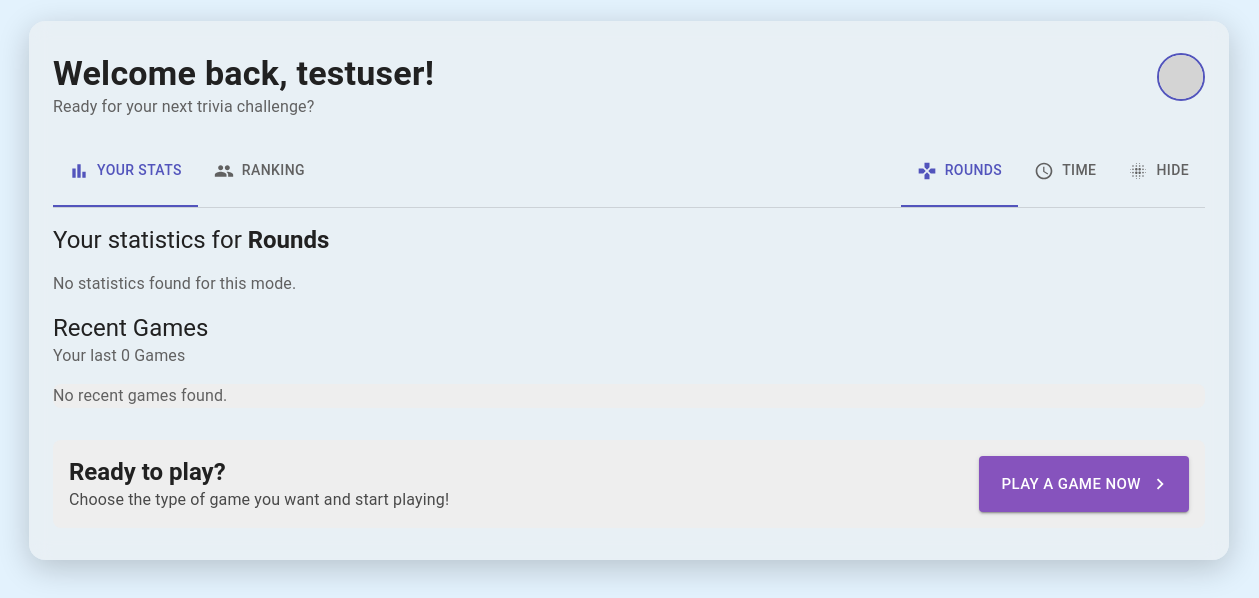
Test: Home component › should render the tabs and allow switching between them
This screenshot has width=1259, height=598.
Expected: the tab "Your Stats" is shown, x1=53 y1=135 x2=198 y2=207
Click the tab with test id "ranking" at (259, 171), box x1=198 y1=135 x2=321 y2=207
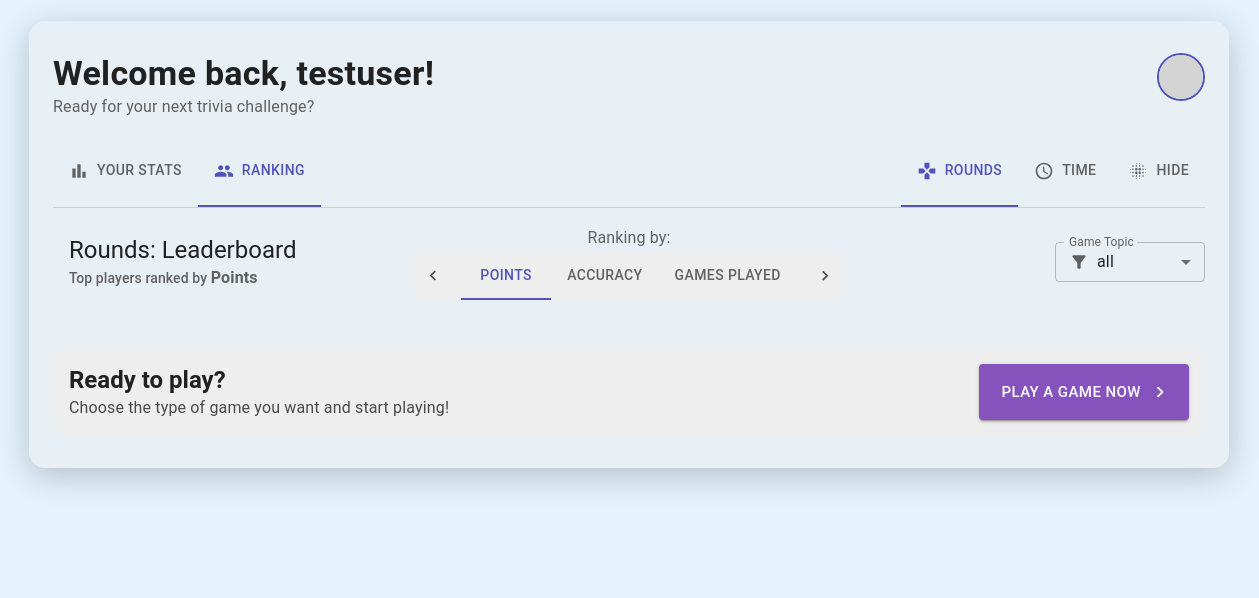
Expected: the text "Rounds: Leaderboard" is shown, x1=69 y1=236 x2=296 y2=264
